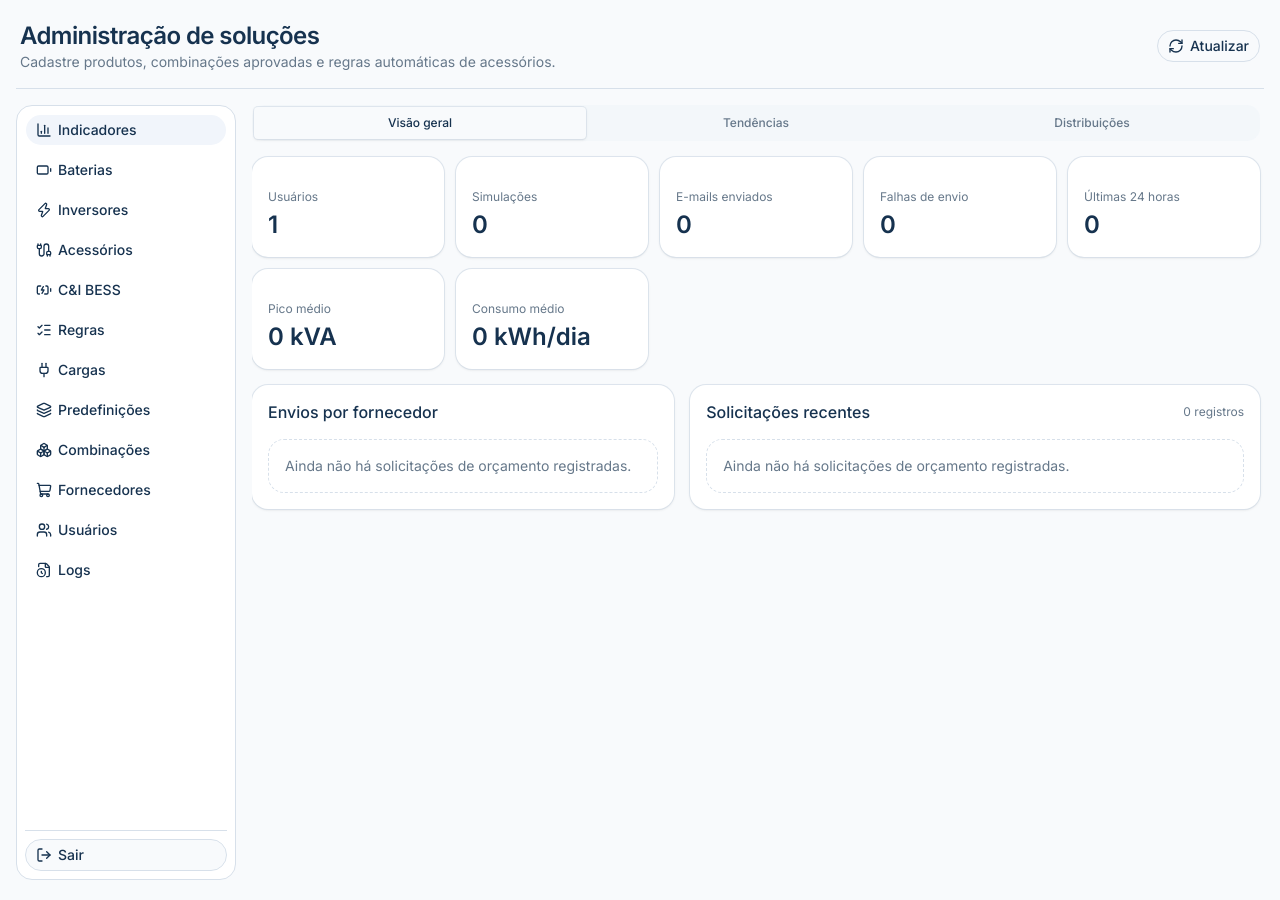
AdminPanel: removing a row › deletes an inverter and records the activity log (hits the getLogTarget "inverters" branch)
Click the button "Inversores" at (126,210), box [25,194,227,226]
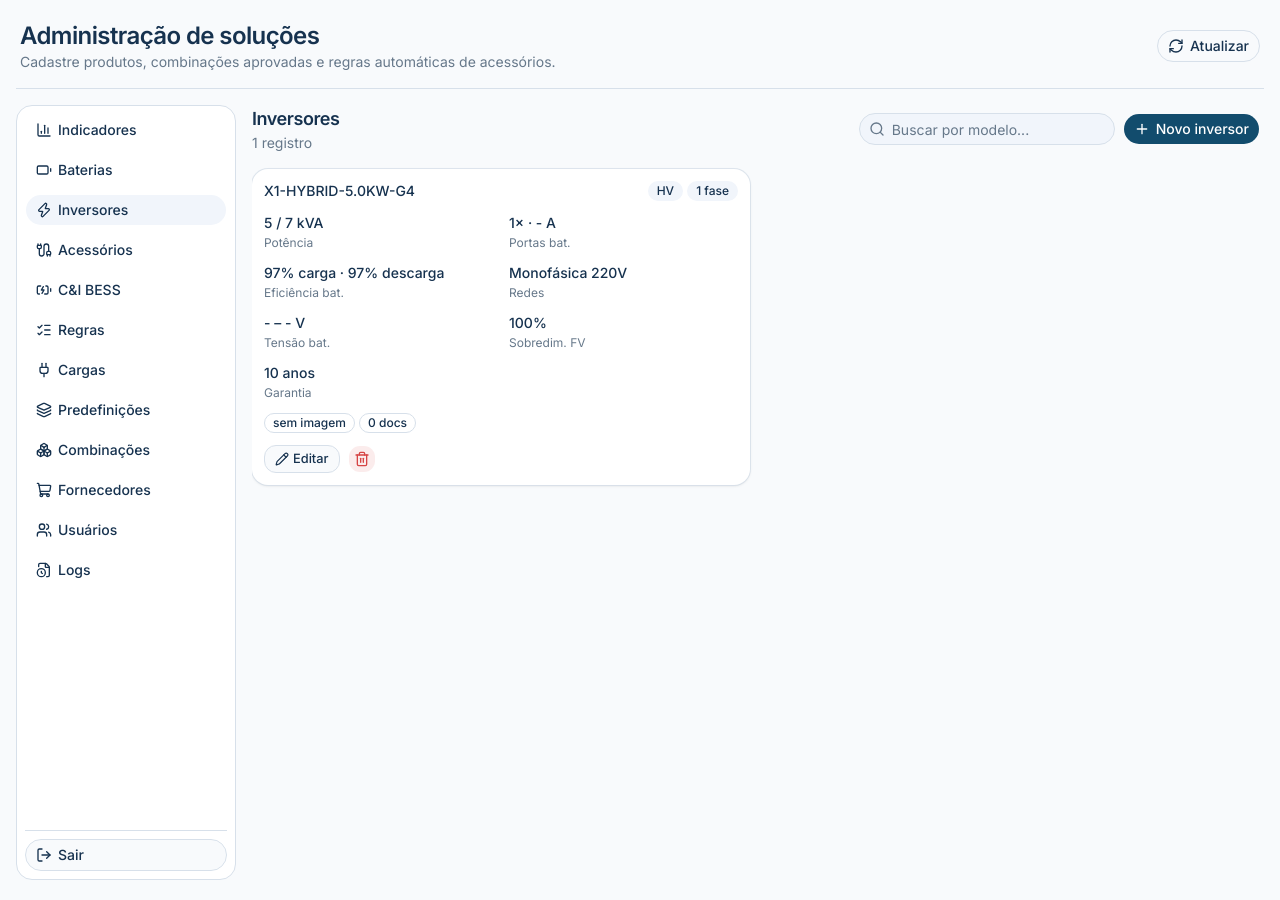
Now the text "X1-Hybrid-5.0kW-G4" is shown, box [264,181,415,200]
Click the button named "Remover X1-Hybrid-5.0kW-G4" at (362,459), box [348,445,376,473]
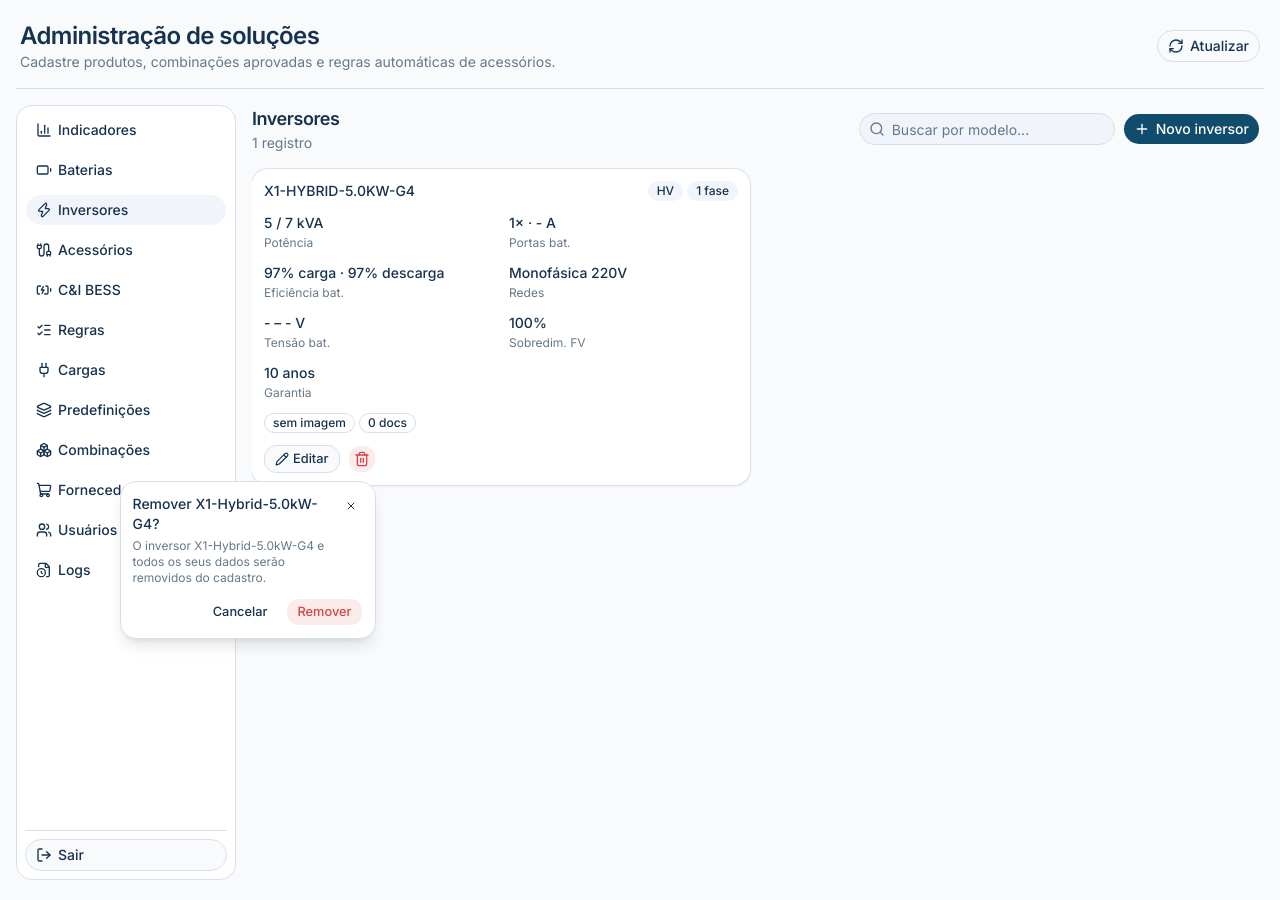
Click the button "Remover" at (324,612), box [286,598,362,626]
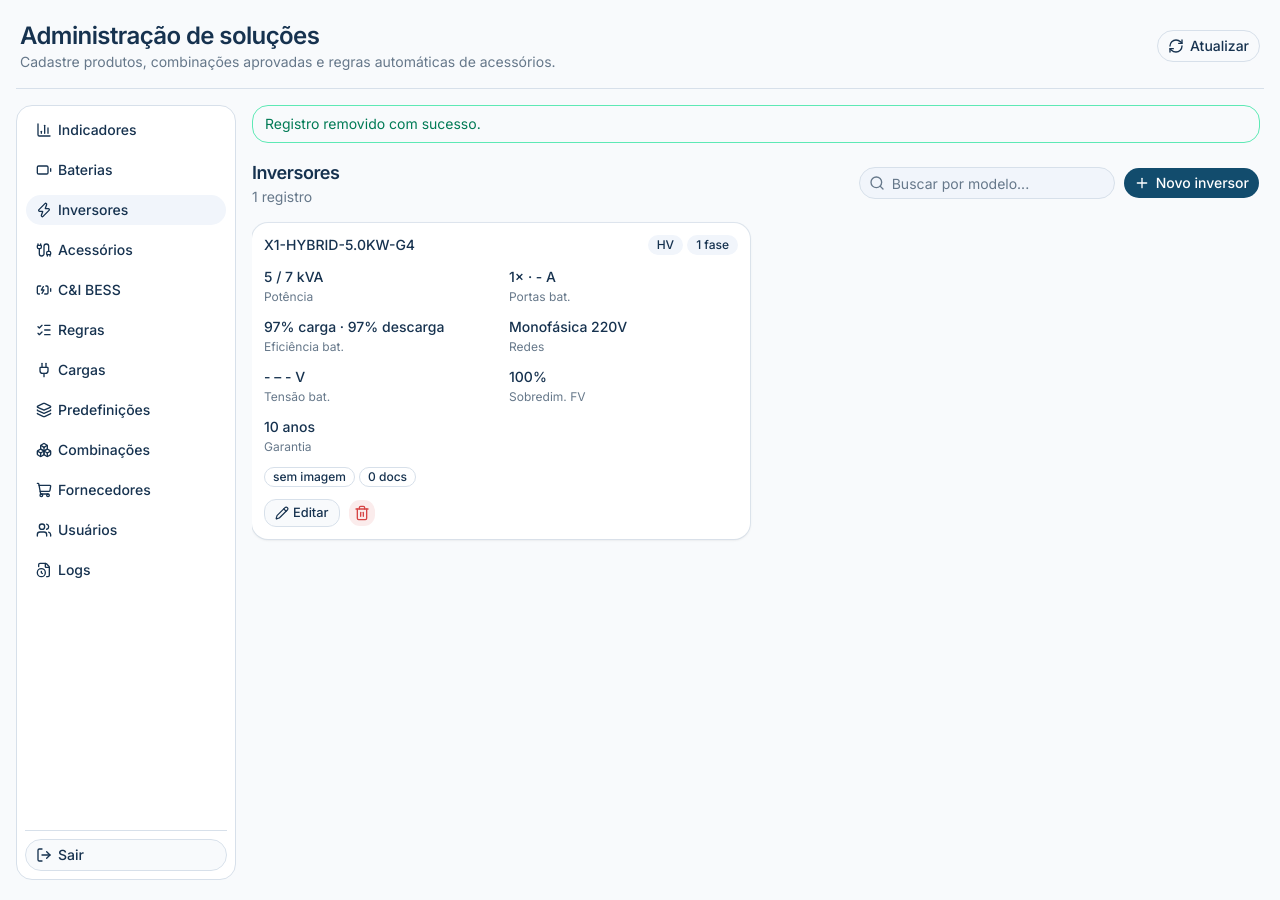
Now the message reads "Registro removido com sucesso.", box [265,115,481,132]
